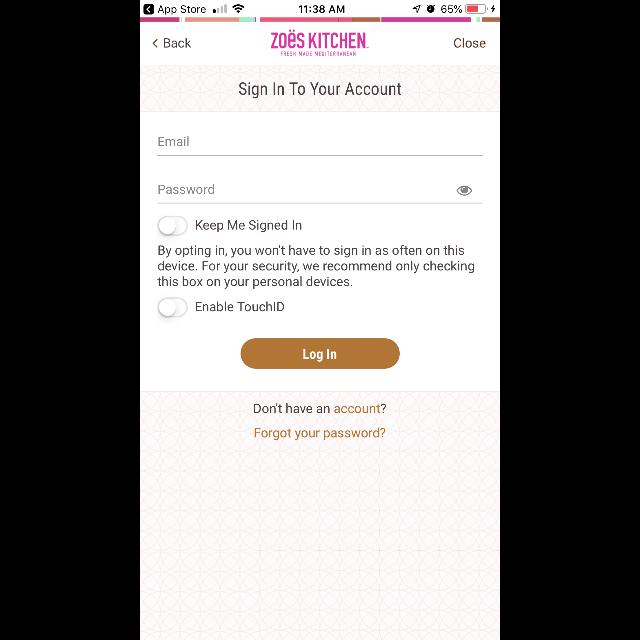icon: (456, 186, 472, 196), (152, 40, 158, 49)
image: (271, 30, 369, 56)
input: (158, 184, 482, 204), (158, 136, 482, 156)
switch: (158, 297, 188, 317), (158, 216, 188, 236)
text: (158, 246, 474, 288), (239, 82, 401, 98), (254, 428, 386, 440), (254, 403, 386, 413), (196, 220, 302, 232), (196, 302, 284, 312), (160, 184, 214, 194), (454, 38, 486, 48), (159, 136, 189, 146), (164, 38, 192, 48)
textbutton: (240, 339, 400, 369)
uppertaskbar: (140, 1, 500, 16)
